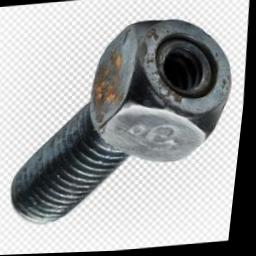Non-corroded-Bolts: (14, 19, 234, 223)
